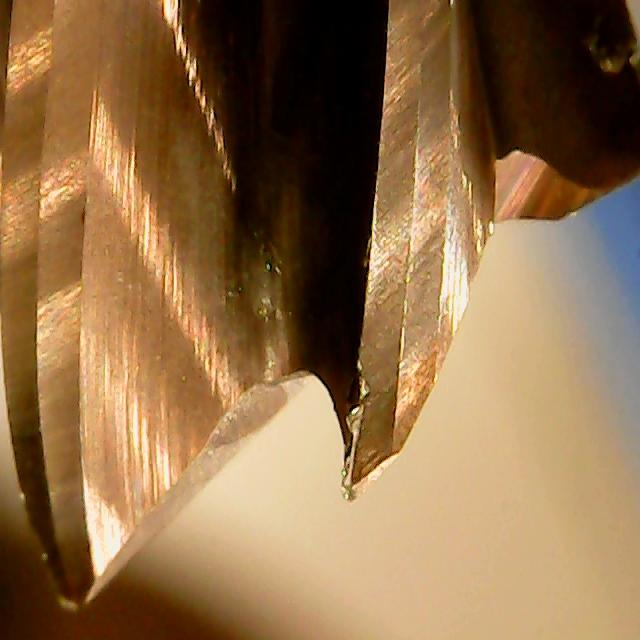Tool-wear-class-1: (328, 182, 461, 507)
